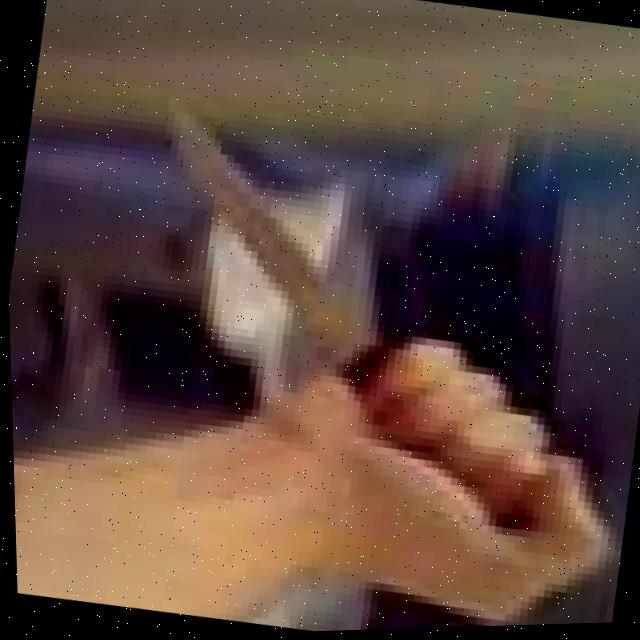knife: (140, 110, 395, 365)
